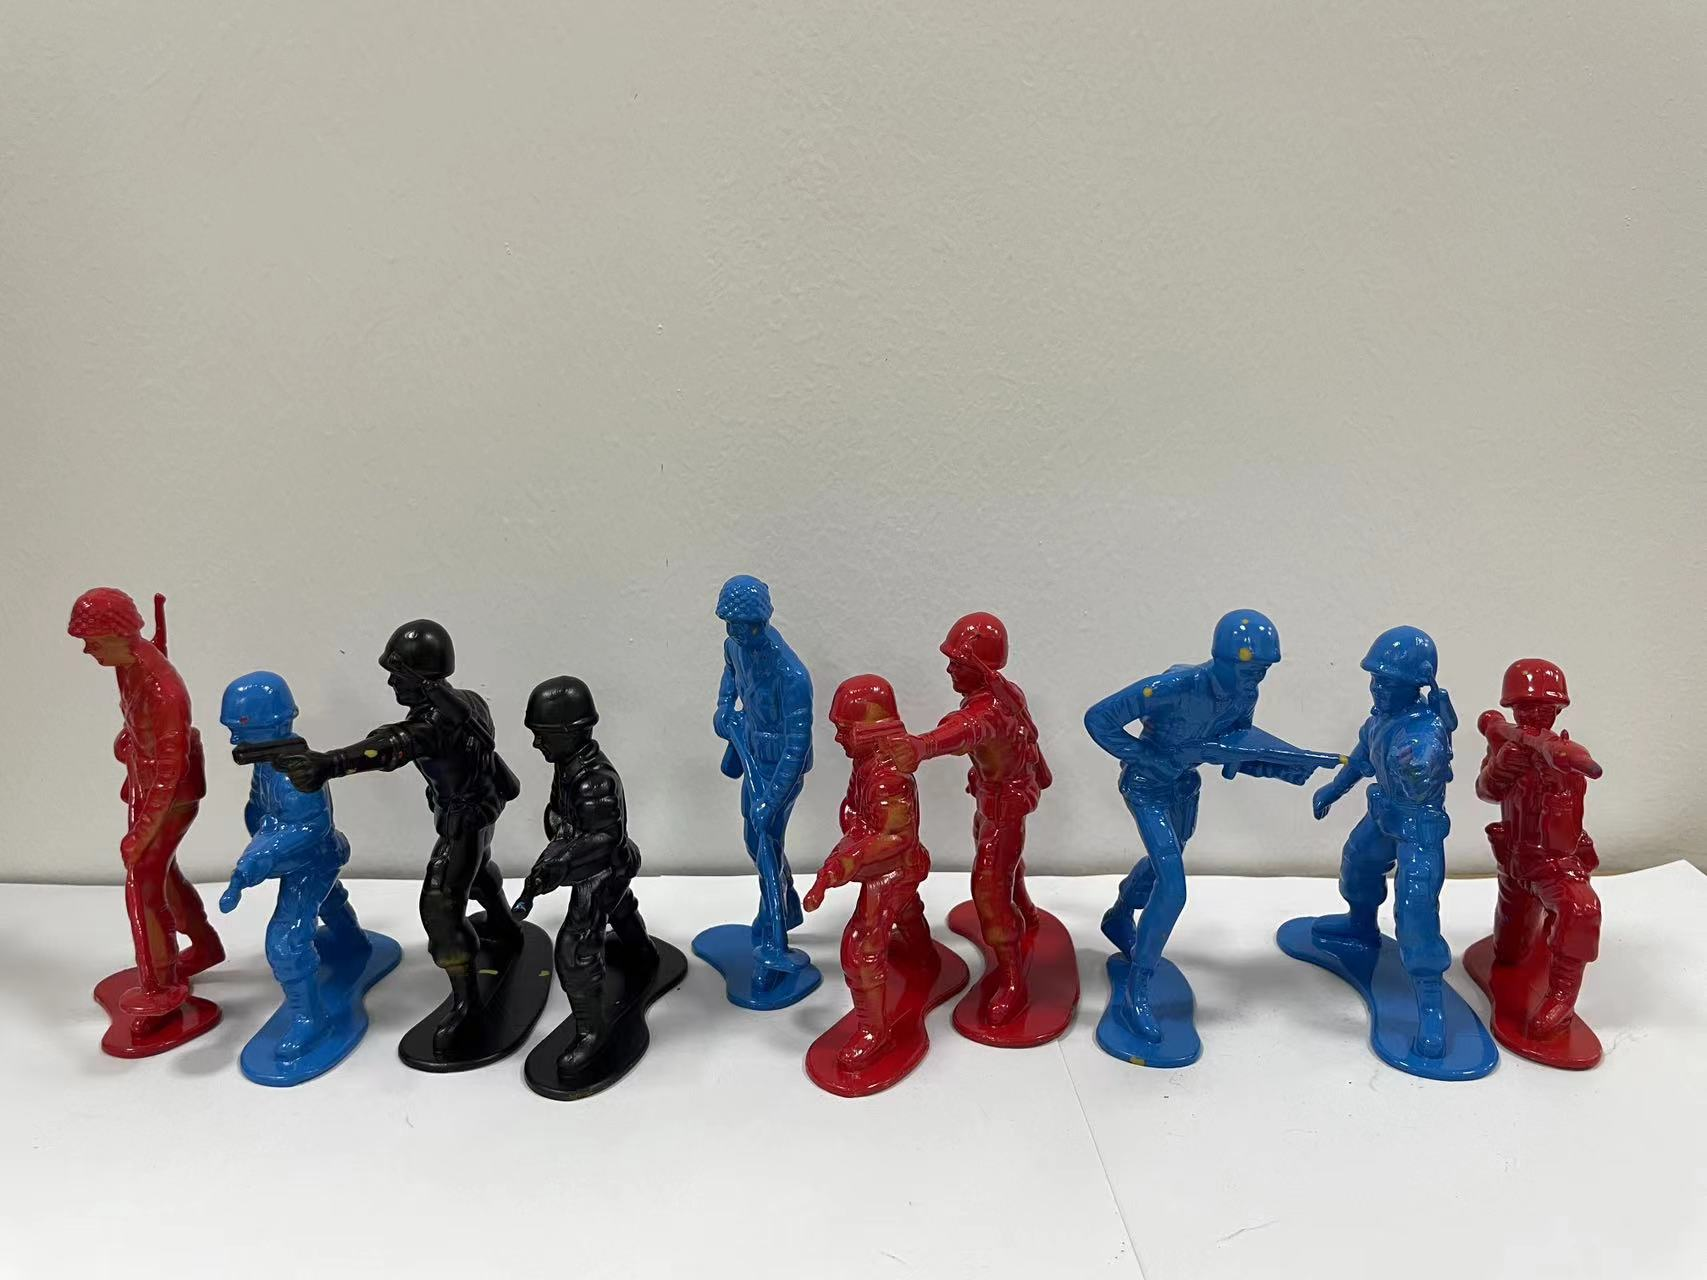black: (511, 653, 688, 1116), (364, 597, 526, 1080)
blue: (1065, 573, 1293, 1089), (208, 639, 391, 1089), (1302, 612, 1476, 1080), (685, 569, 819, 1012)
red: (60, 575, 233, 1065), (1473, 641, 1659, 1089), (925, 600, 1081, 1068), (798, 678, 927, 1088)
